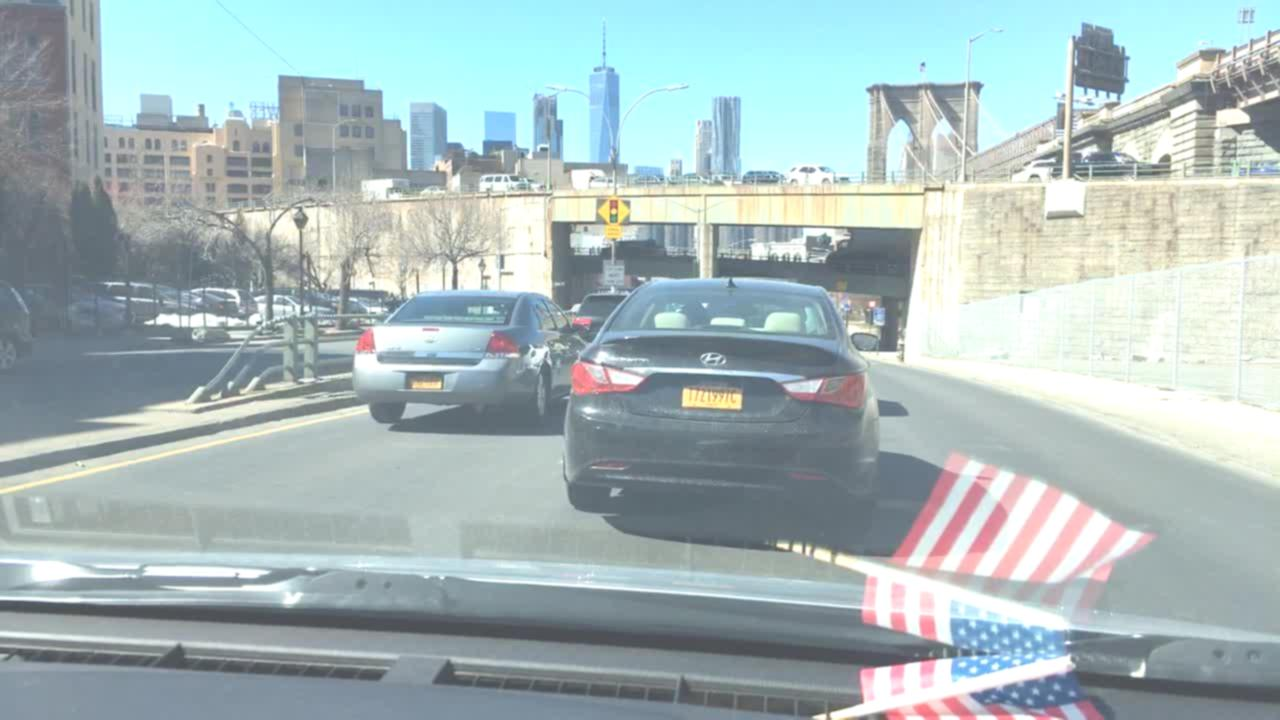Hyundai: (698, 347, 729, 372)
